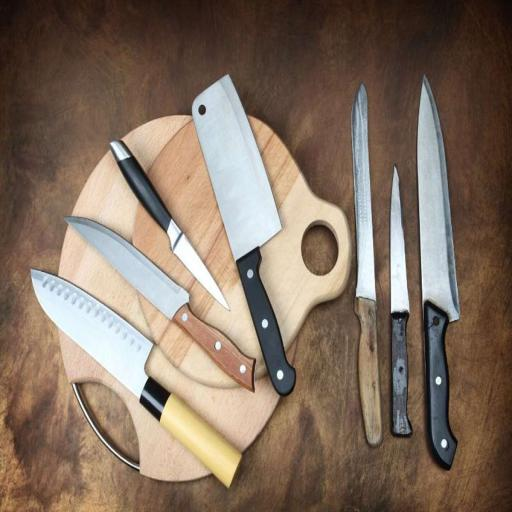knife: (19, 264, 252, 500)
